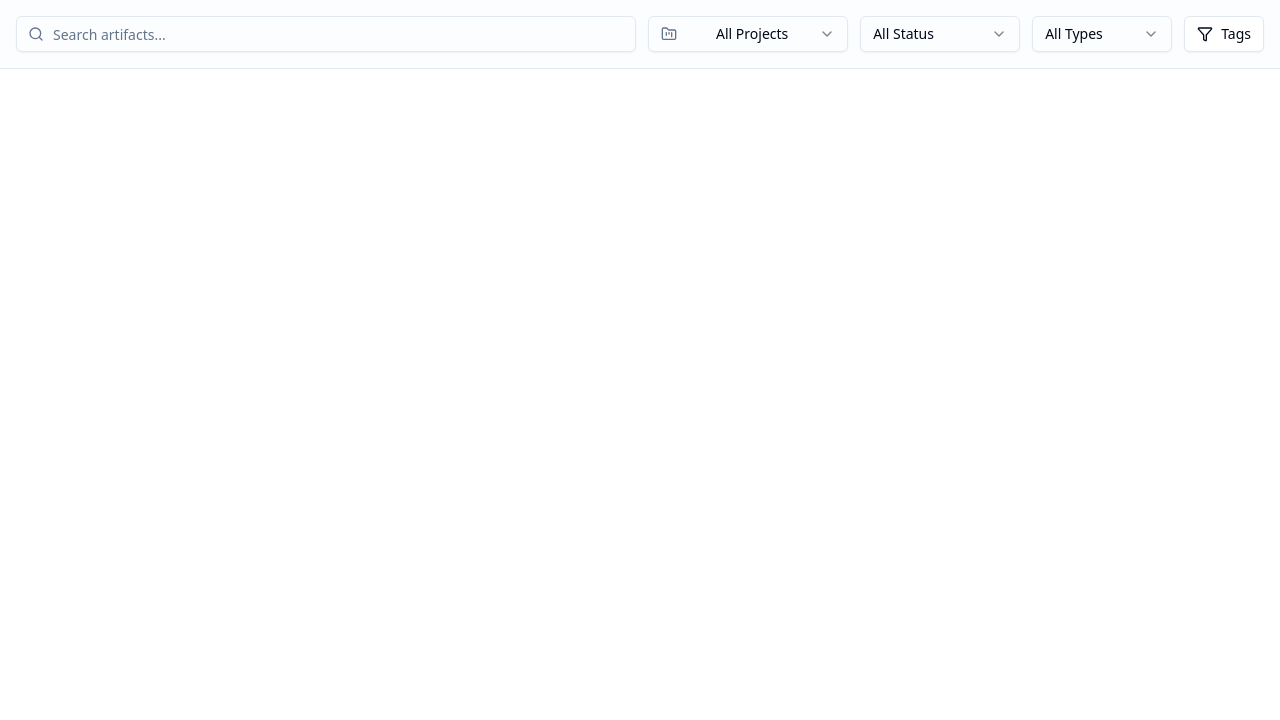
Test: ManagePageFilters › tags popover (shared TagFilterPopover) › filters tags by search
The image size is (1280, 720).
Click the button "Tags" at (1224, 34), box [1184, 16, 1264, 52]
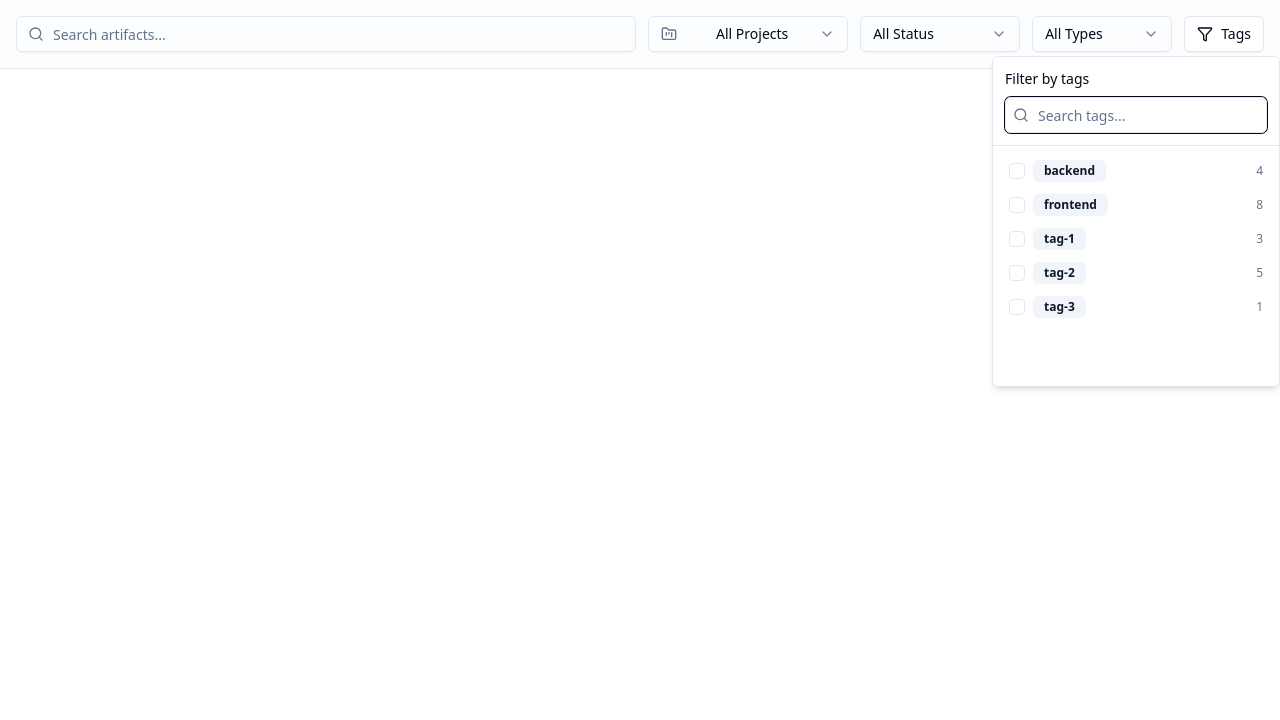
Type "front" into the field with placeholder "Search tags..." at (1136, 115), box [1005, 97, 1267, 133]
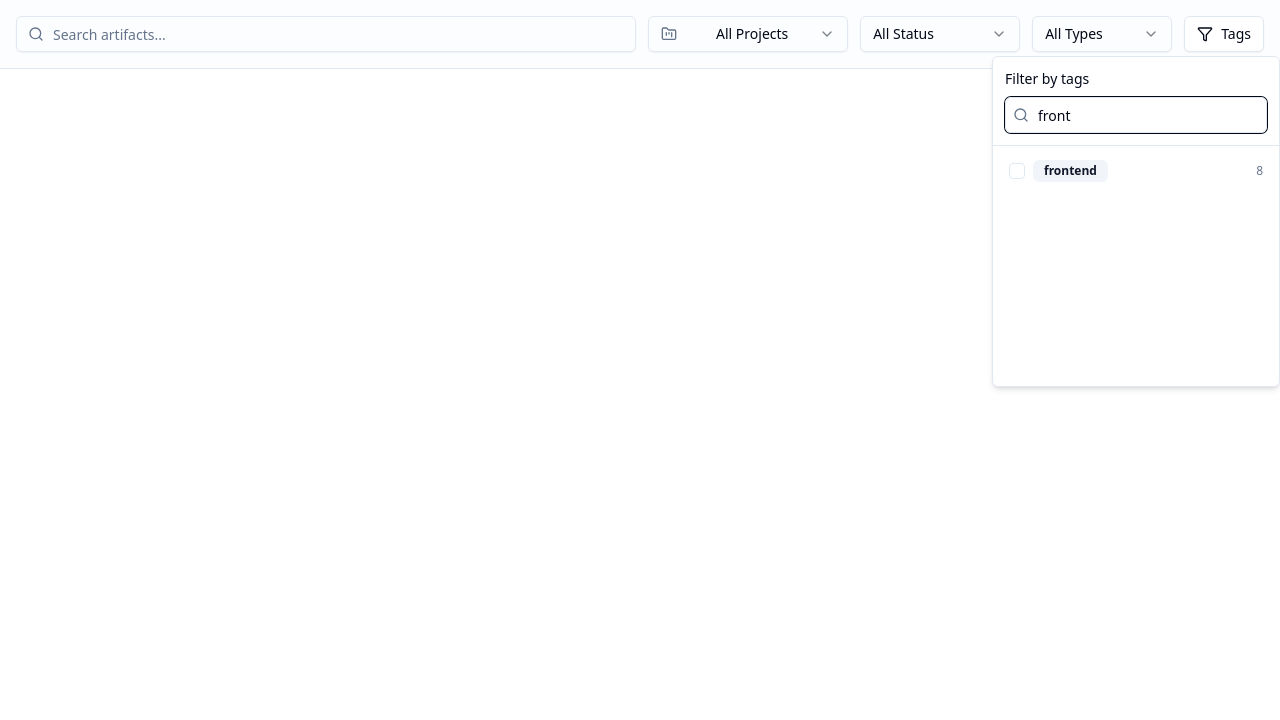
Check: the text "frontend" is shown, box [1033, 160, 1108, 182]
Check: the text "backend" is gone
